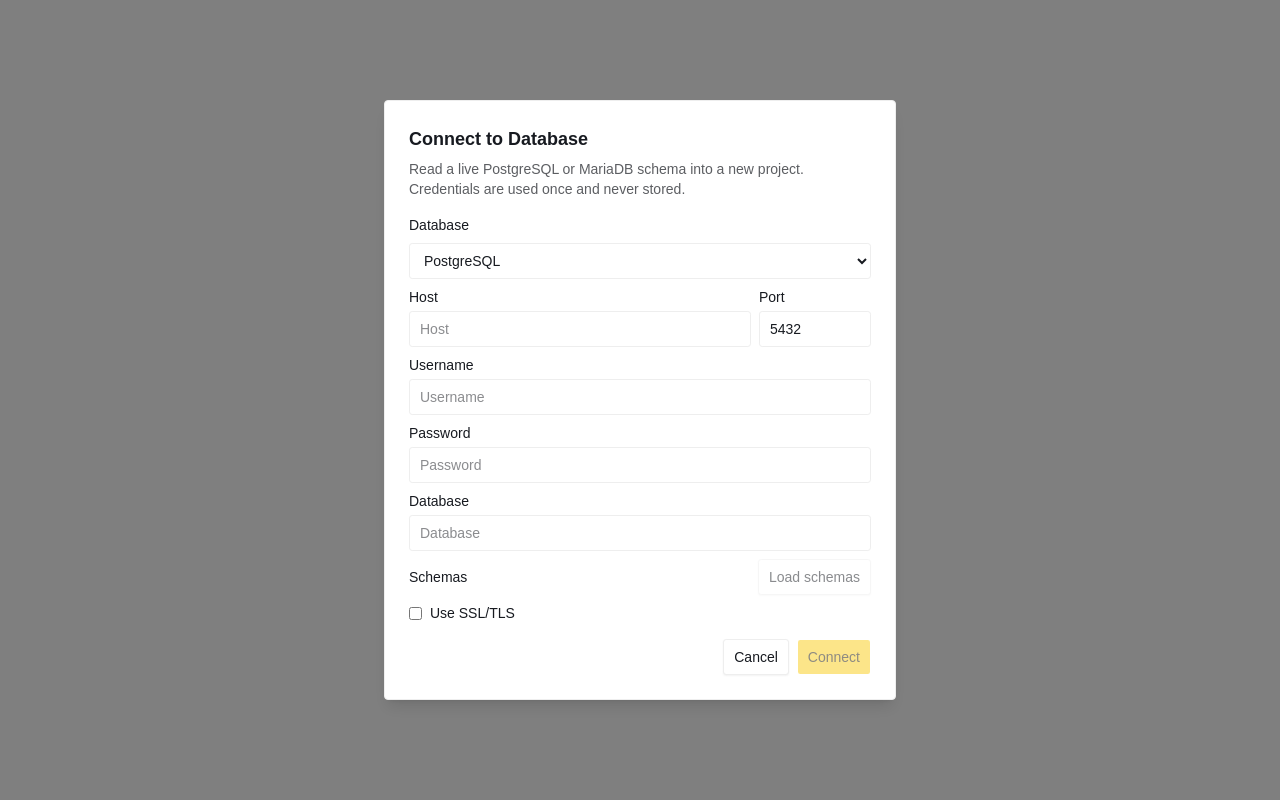
it: DbConnectDialog › shows an alert and does NOT report up on introspect failure
This screenshot has width=1280, height=800.
In the field with test id "db-connect-host": (580, 329) [409,311,751,347], type "localhost"
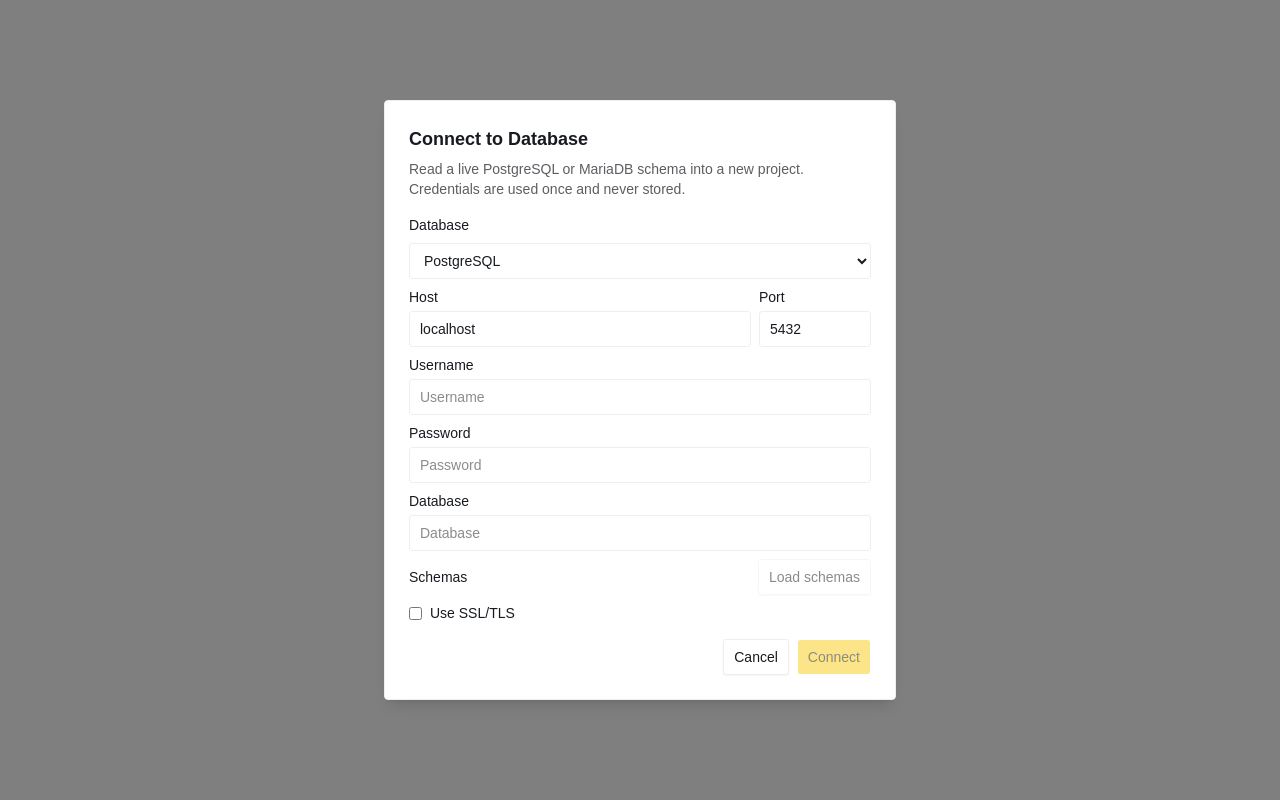
In the field with test id "db-connect-username": (640, 397) [409,379,871,415], type "postgres"
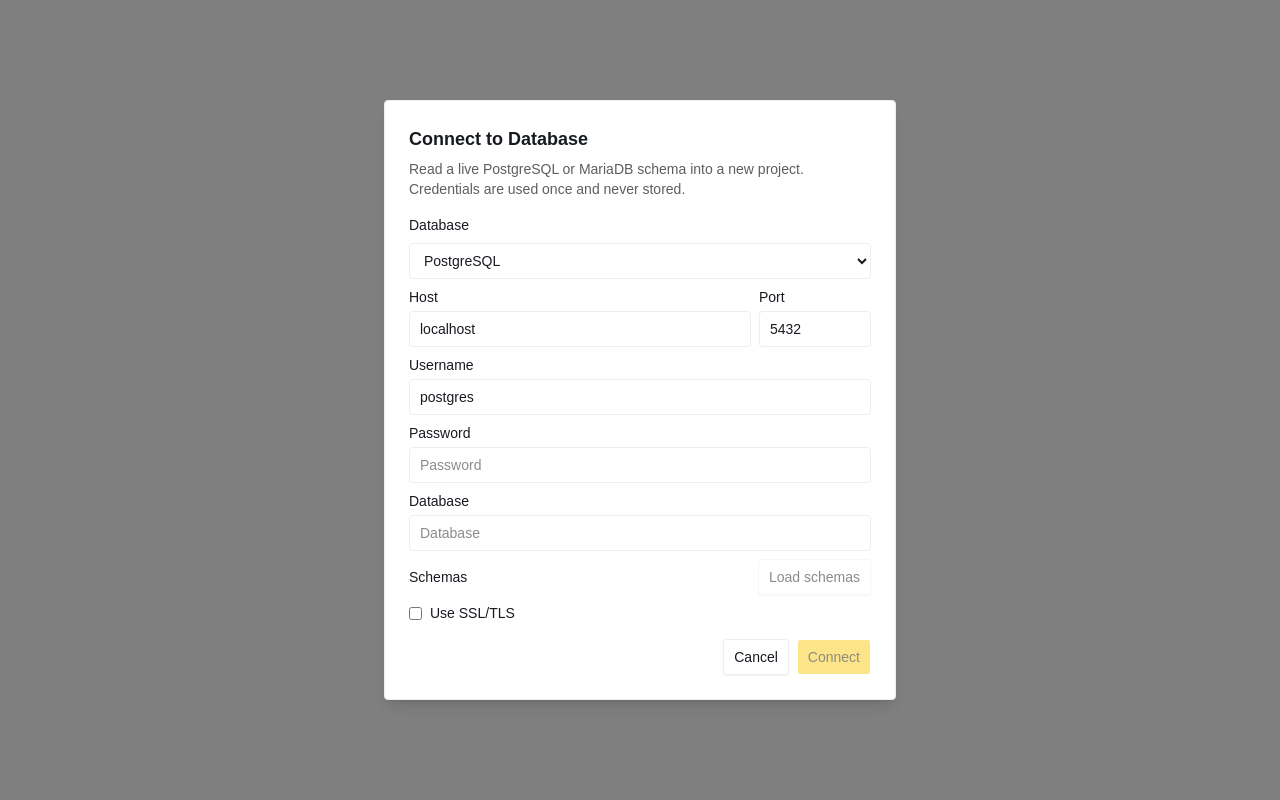
In the password field with test id "db-connect-password": (640, 465) [409,447,871,483], type "secret"
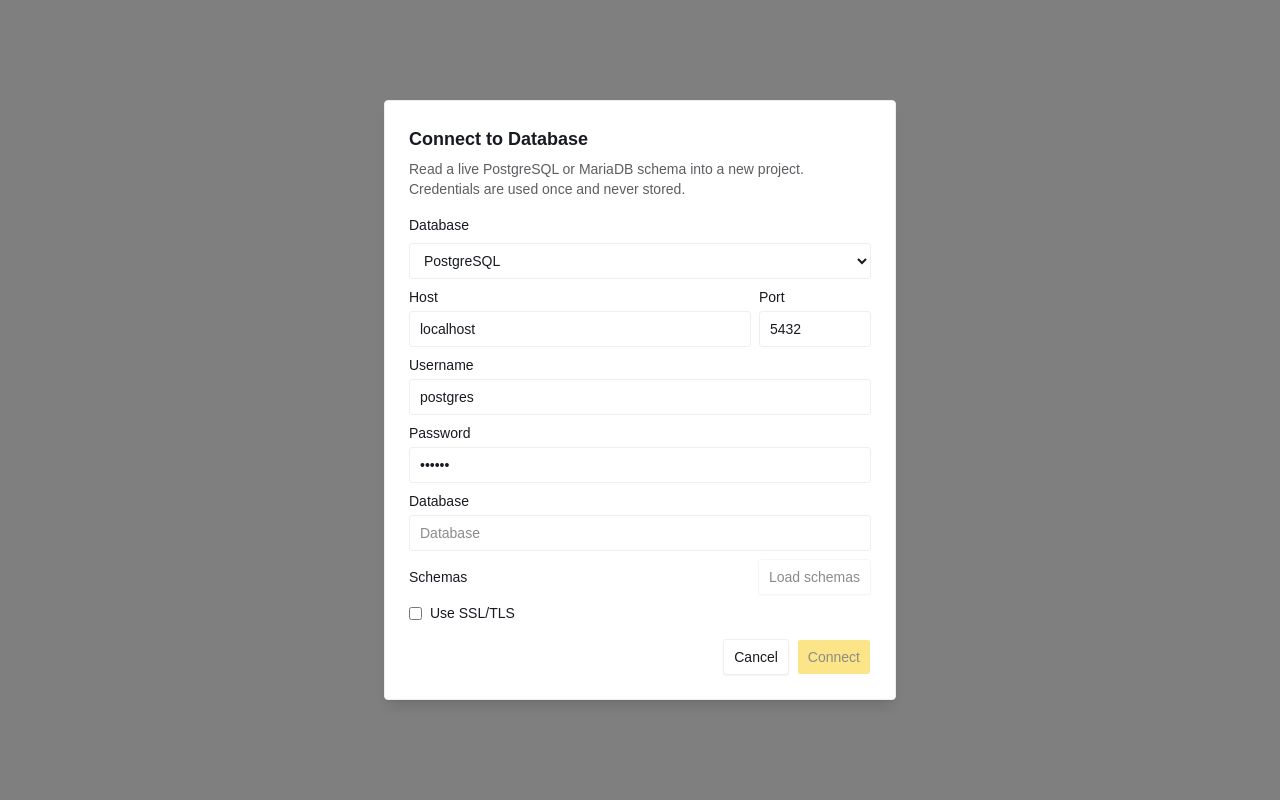
In the field with test id "db-connect-database": (640, 533) [409,515,871,551], type "mydb"
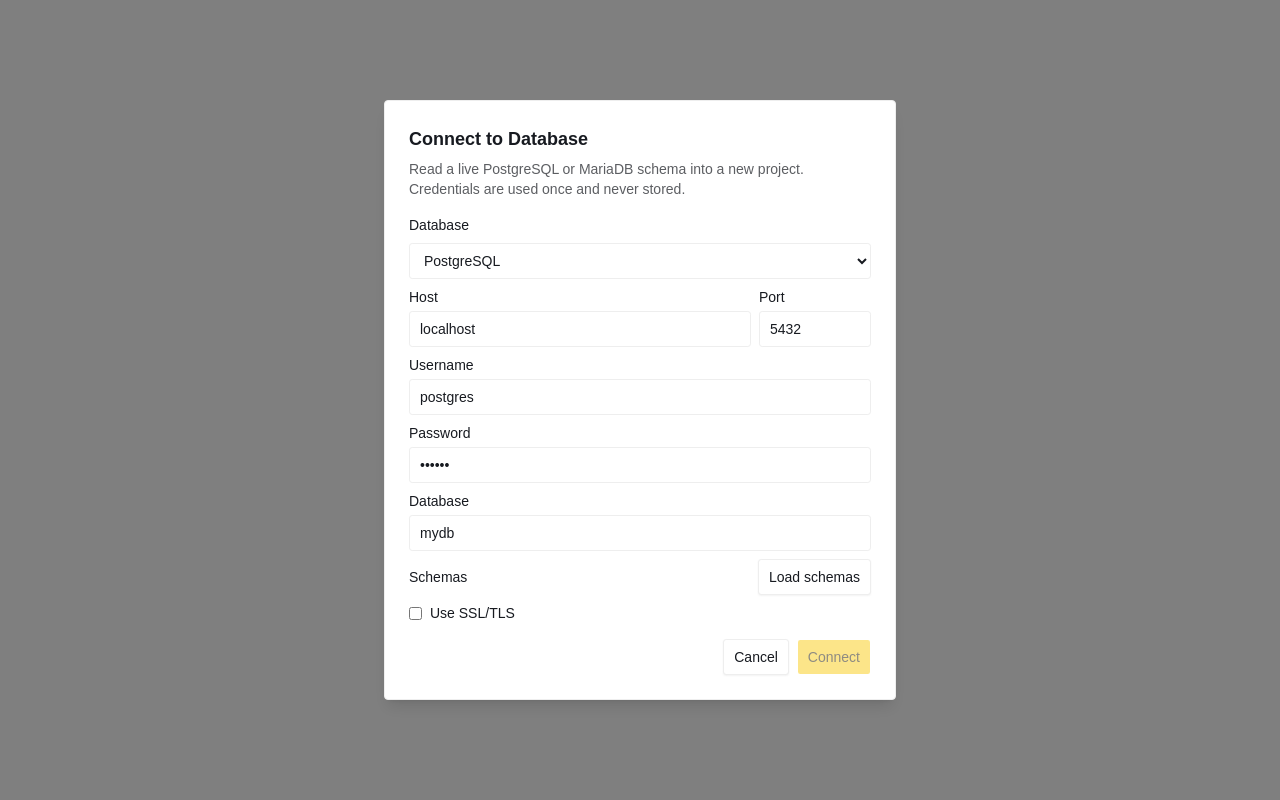
Click the button with test id "db-connect-load-schemas": (814, 577) [758,559,871,595]
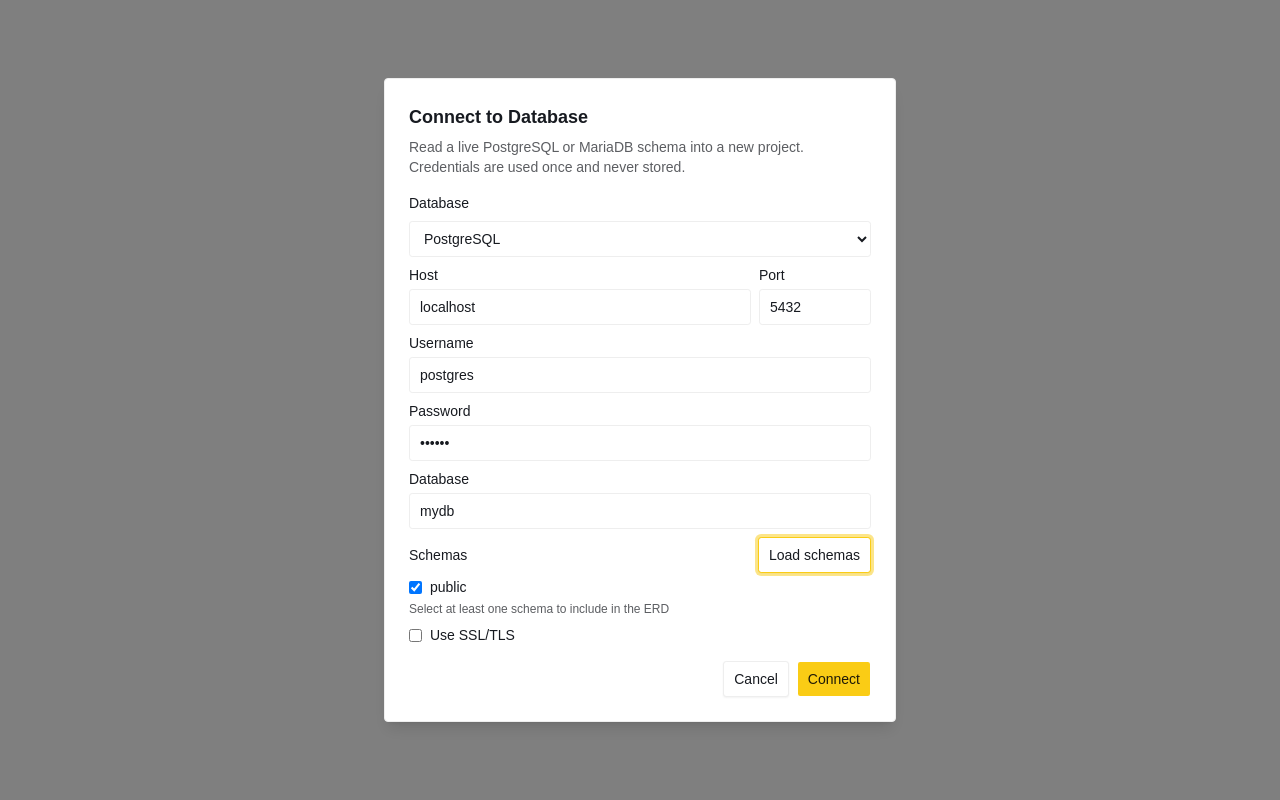
Click the button "Connect": (834, 679) [797,661,871,697]
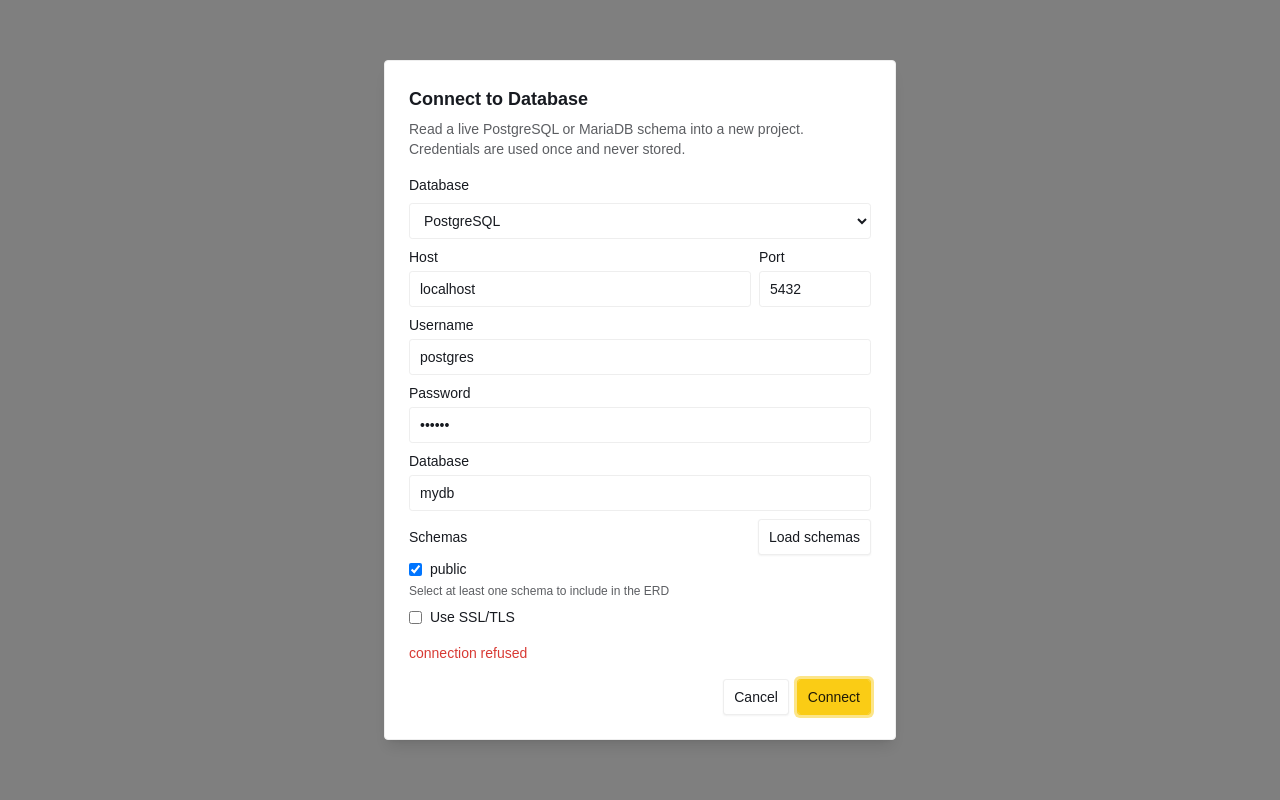
Expected: the message reads "connection refused", [409,645,527,661]
